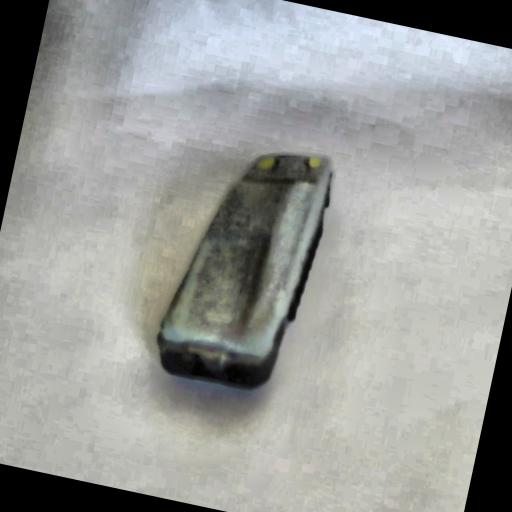normal_car: (141, 124, 344, 406)
